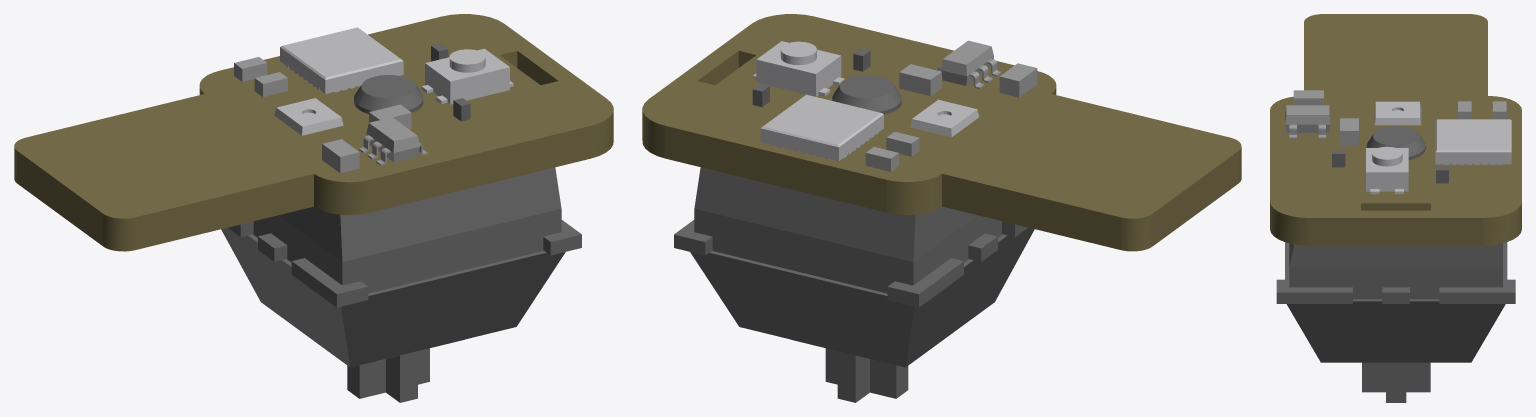
The model's file is ada-5020.glb.
3 views of the same model, side by side, from view 1: azimuth 30°, elevation 25°; view 2: azimuth 150°, elevation 25°; view 3: azimuth 270°, elevation 25° (orthographic). The views are drawn at different scales.
Parts seen in each view (by area): view 1: 0.16666666666666666_0.16666666666666666_0.08333333333333333_, 0.16666666666666666_0.16666666666666666_0.16666666666666666_, 0.5833333333333334_0.5833333333333334_0.5833333333333334_0.8, 0.3333333333333333_0.3333333333333333_0.3333333333333333_0; view 2: 0.16666666666666666_0.16666666666666666_0.08333333333333333_, 0.16666666666666666_0.16666666666666666_0.16666666666666666_, 0.5833333333333334_0.5833333333333334_0.5833333333333334_0.8, 0.3333333333333333_0.3333333333333333_0.3333333333333333_0; view 3: 0.16666666666666666_0.16666666666666666_0.08333333333333333_, 0.16666666666666666_0.16666666666666666_0.16666666666666666_, 0.5833333333333334_0.5833333333333334_0.5833333333333334_0.8, 0.3333333333333333_0.3333333333333333_0.3333333333333333_0.
Part boxes in pixels (bbox=[...]): 0.16666666666666666_0.16666666666666666_0.08333333333333333_: bbox=[14, 14, 613, 251]; 0.16666666666666666_0.16666666666666666_0.16666666666666666_: bbox=[221, 43, 581, 402]; 0.5833333333333334_0.5833333333333334_0.5833333333333334_0.8: bbox=[274, 27, 513, 135]; 0.3333333333333333_0.3333333333333333_0.3333333333333333_0: bbox=[234, 57, 427, 173]; 0.16666666666666666_0.16666666666666666_0.08333333333333333_: bbox=[642, 14, 1241, 251]; 0.16666666666666666_0.16666666666666666_0.16666666666666666_: bbox=[674, 48, 1034, 402]; 0.5833333333333334_0.5833333333333334_0.5833333333333334_0.8: bbox=[753, 41, 979, 161]; 0.3333333333333333_0.3333333333333333_0.3333333333333333_0: bbox=[865, 40, 1037, 171]; 0.16666666666666666_0.16666666666666666_0.08333333333333333_: bbox=[1270, 14, 1521, 245]; 0.16666666666666666_0.16666666666666666_0.16666666666666666_: bbox=[1276, 126, 1515, 402]; 0.5833333333333334_0.5833333333333334_0.5833333333333334_0.8: bbox=[1366, 101, 1511, 194]; 0.3333333333333333_0.3333333333333333_0.3333333333333333_0: bbox=[1285, 90, 1506, 144].
Bounding box in the file's own units: 3.16 × 1.92 × 1.65.
